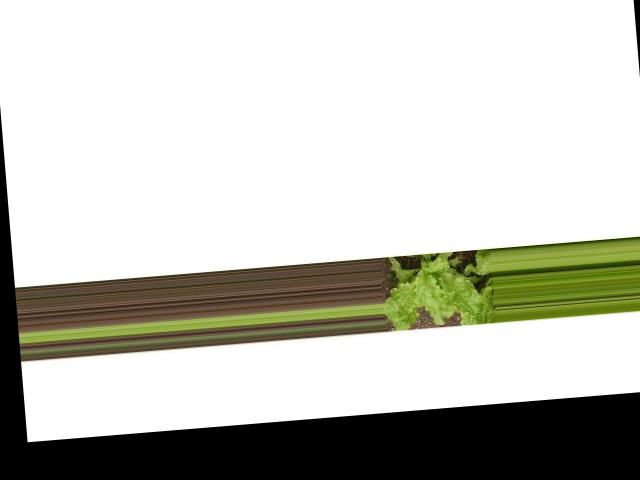lettuce: (380, 243, 496, 328)
